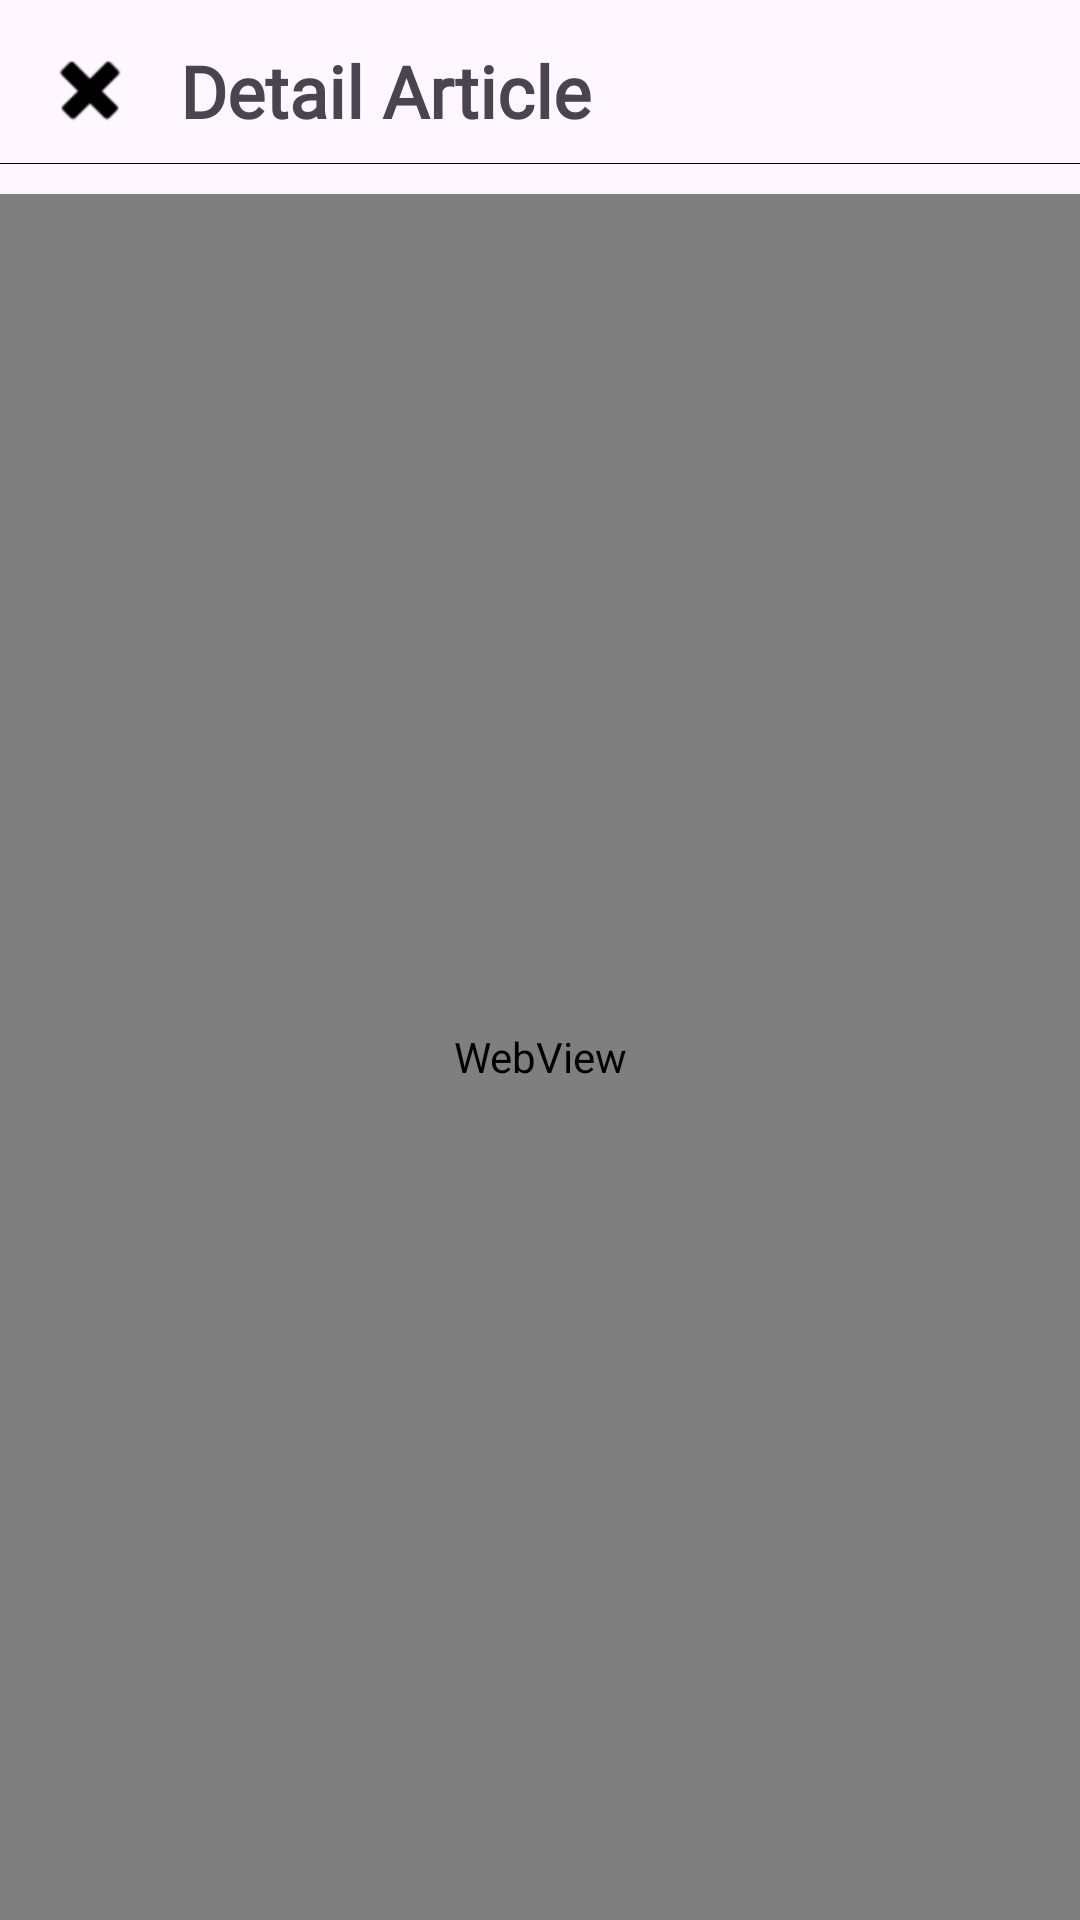

Named icons in this screenshot (1080*1920) and their centers, (x=x, y=y):
delete: (x=90, y=90)
